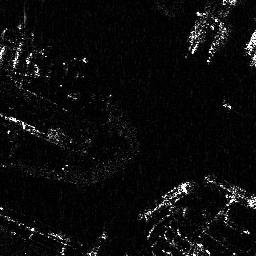ship: (133, 180, 197, 221), (204, 174, 256, 212), (207, 20, 231, 63)
